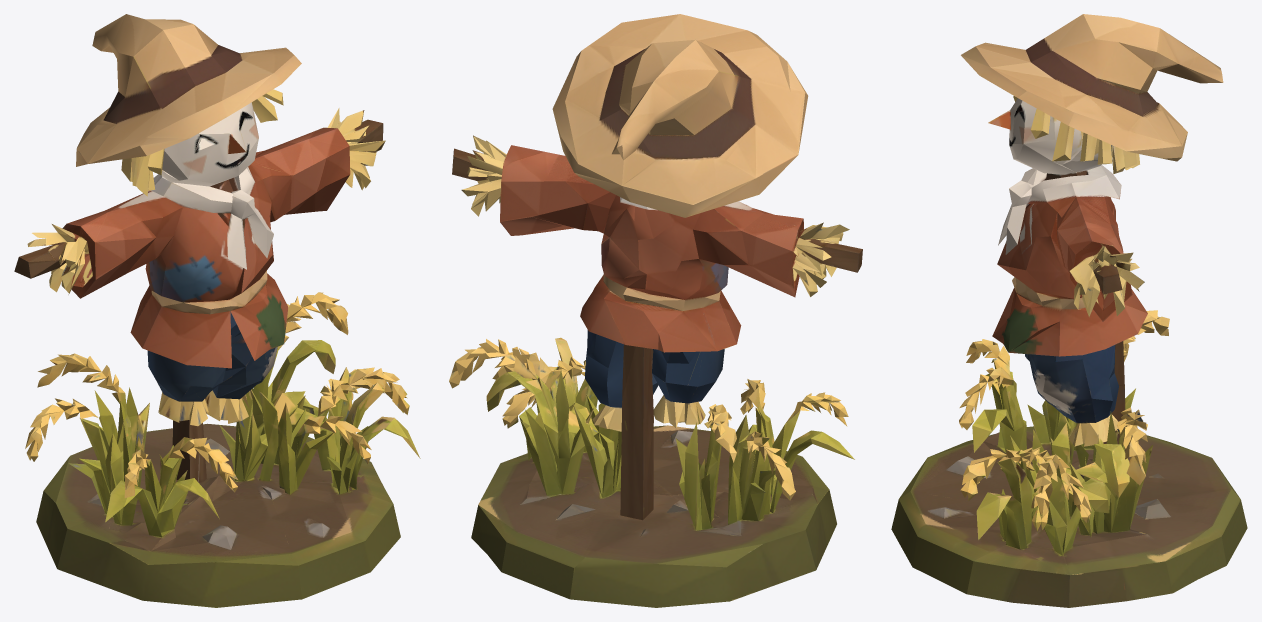
The model's file is scarecrow.glb.
3 views of the same model, side by side, from view 1: azimuth 30°, elevation 25°; view 2: azimuth 150°, elevation 25°; view 3: azimuth 270°, elevation 25° (orthographic). The views are drawn at different scales.
Size of the model in its own units: 1.51 by 1.9 by 1.24.
Materials: 1 (1 with a texture image).
